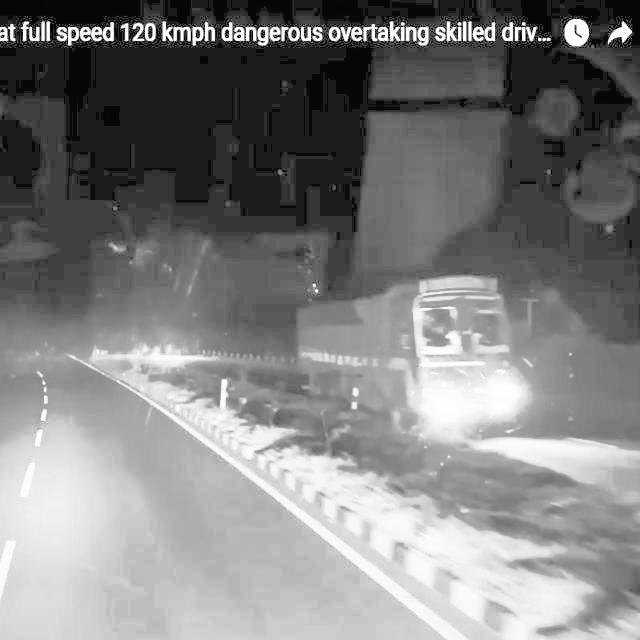Truck: (294, 273, 536, 440)
